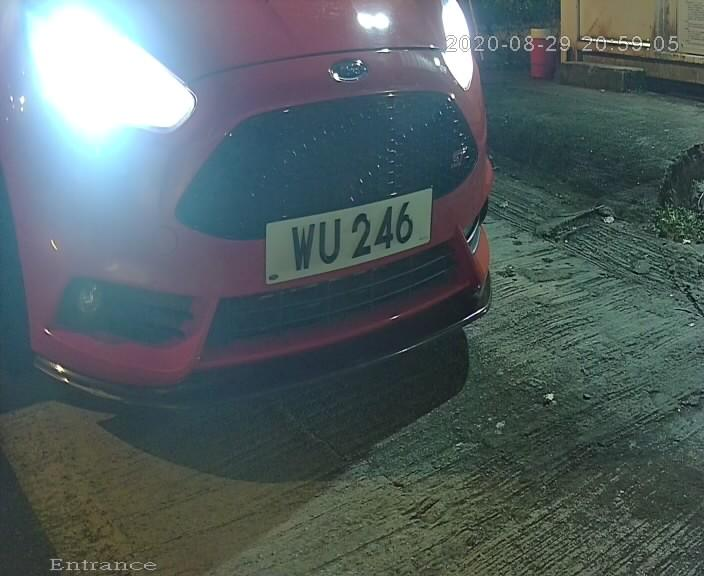License Plate: (258, 183, 431, 291)
